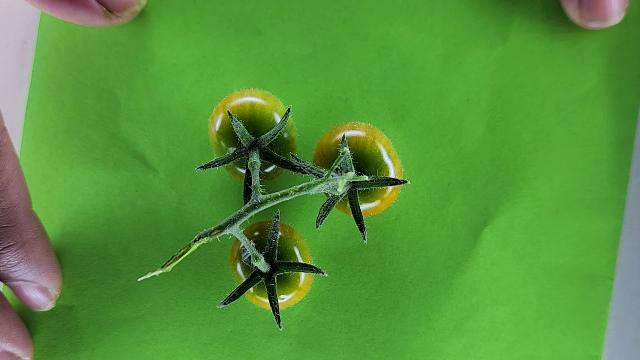Fully Grown: (311, 122, 404, 217), (208, 88, 299, 183), (230, 220, 316, 309)
